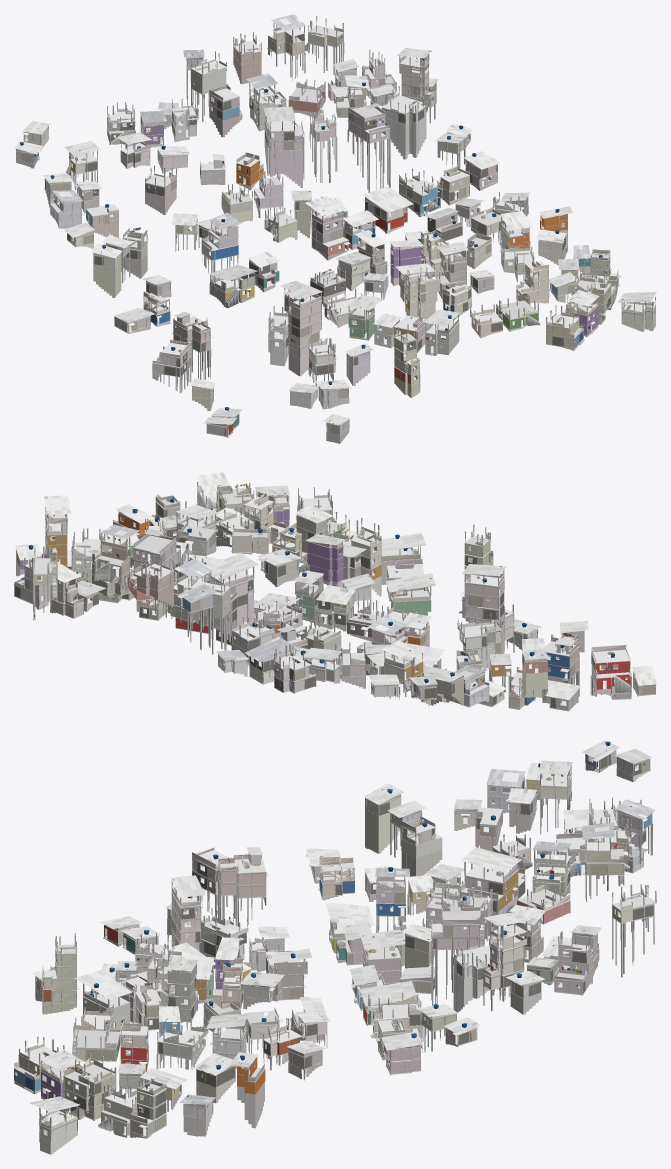
3 views of the same model, one above another, from view 1: azimuth 30°, elevation 25°; view 2: azimuth 150°, elevation 25°; view 3: azimuth 270°, elevation 25° (orthographic). The views are drawn at different scales.
Visible parts, largest first — view 1: T_27_27; view 2: T_27_27; view 3: T_27_27.
Boxes of the visible parts, x1=… form: T_27_27: x1=14, y1=14, x2=656, y2=443; T_27_27: x1=14, y1=472, x2=656, y2=711; T_27_27: x1=14, y1=740, x2=656, y2=1154.
Size of the model in its own units: 135 by 63.93 by 135.
